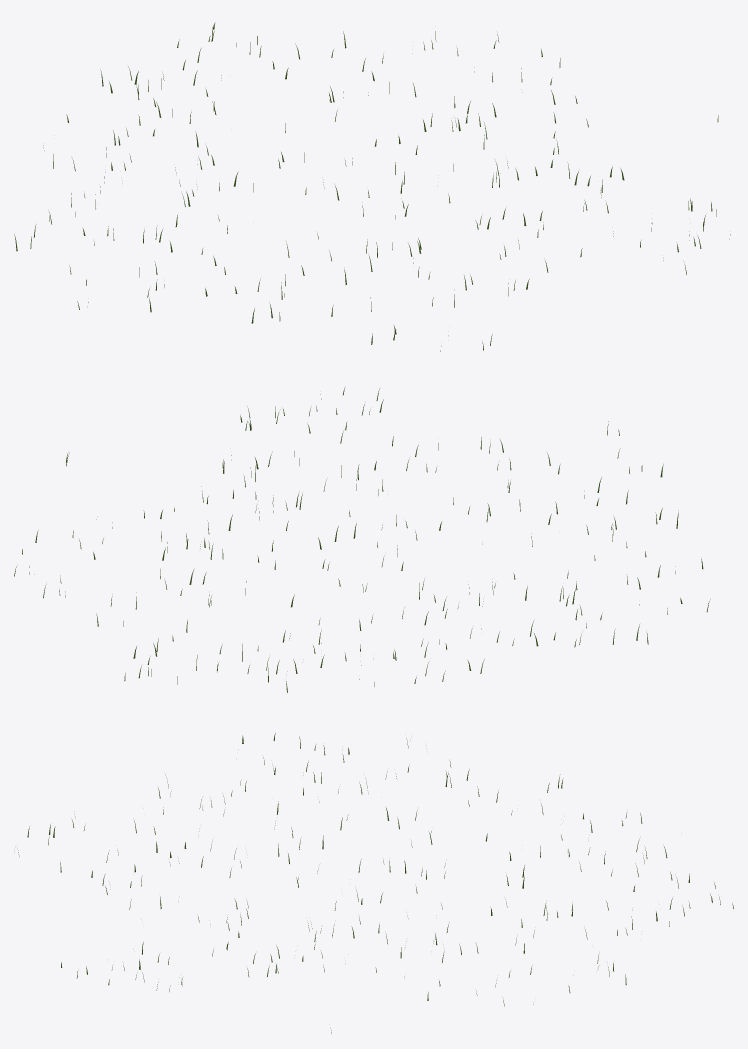
3 views of the same model, one above another, from view 1: azimuth 30°, elevation 25°; view 2: azimuth 150°, elevation 25°; view 3: azimuth 270°, elevation 25° (orthographic). The views are drawn at different scales.
Visible parts, largest first — view 1: GrassPatch; view 2: GrassPatch; view 3: GrassPatch.
Part boxes in pixels (bbox=[...]): GrassPatch: bbox=[14, 22, 730, 351]; GrassPatch: bbox=[14, 387, 710, 692]; GrassPatch: bbox=[14, 733, 733, 1033].
Size of the model in its own units: 18.47 by 0.491 by 18.83.
